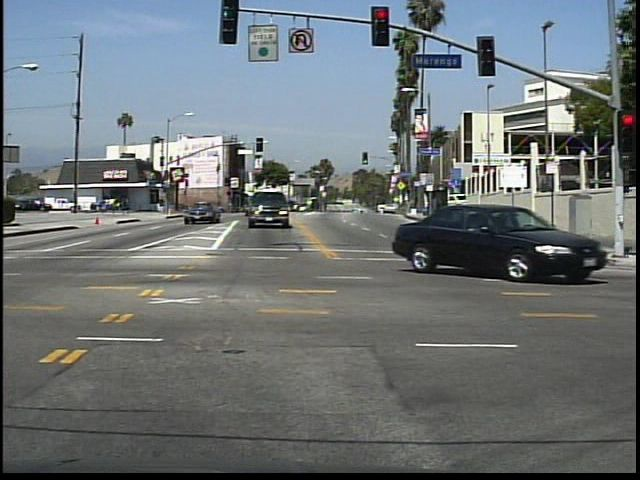person: (122, 195, 134, 219)
